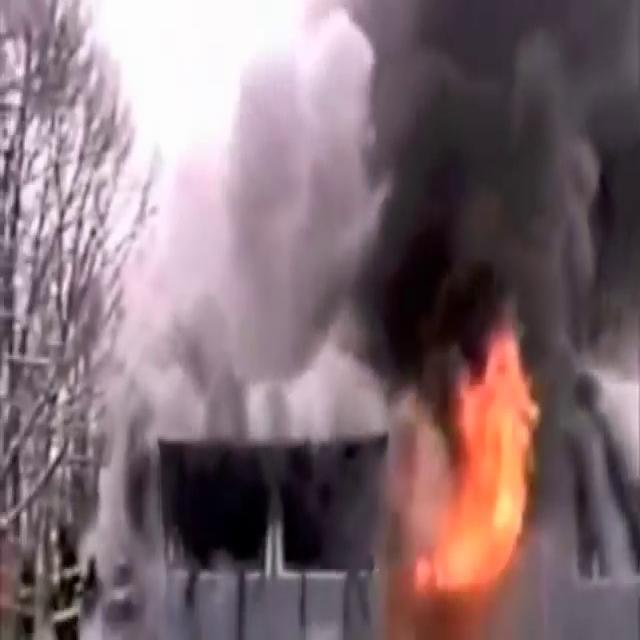Fire: (414, 320, 549, 606)
Smoke: (79, 0, 640, 464)
